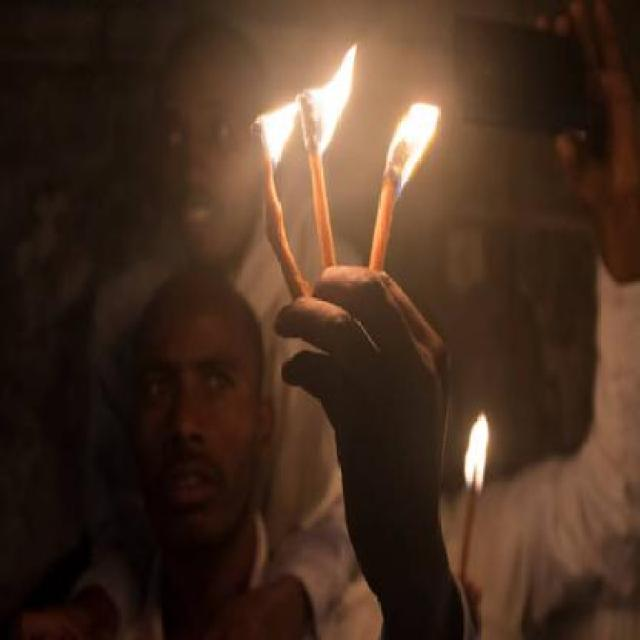Fire: (383, 87, 441, 192), (306, 43, 360, 154), (248, 86, 298, 166), (456, 408, 494, 496)
